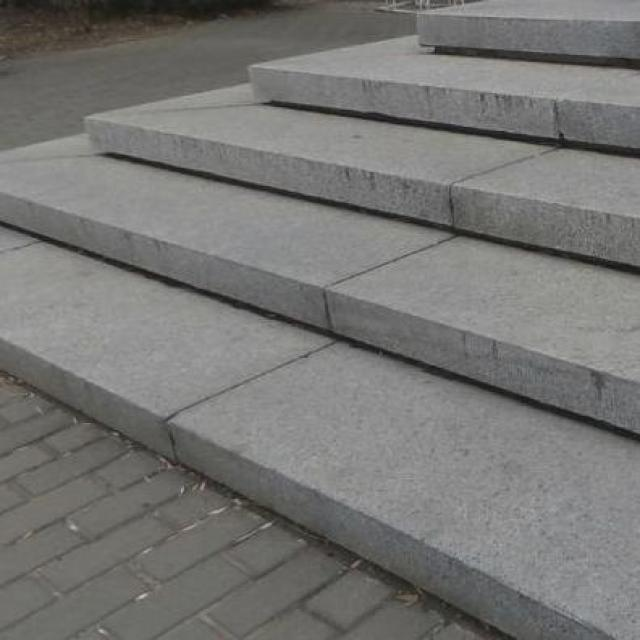Stairs: (0, 4, 640, 640)
